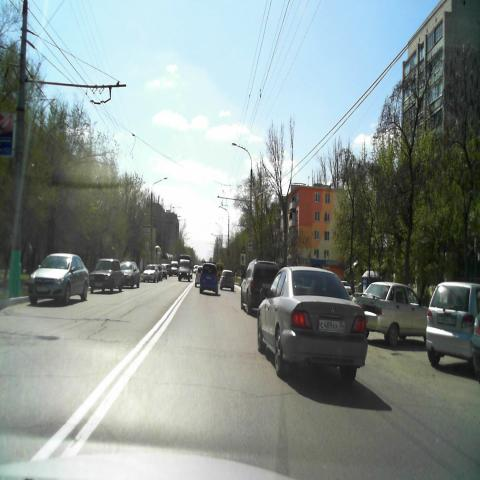1_23: (247, 236, 253, 244)
